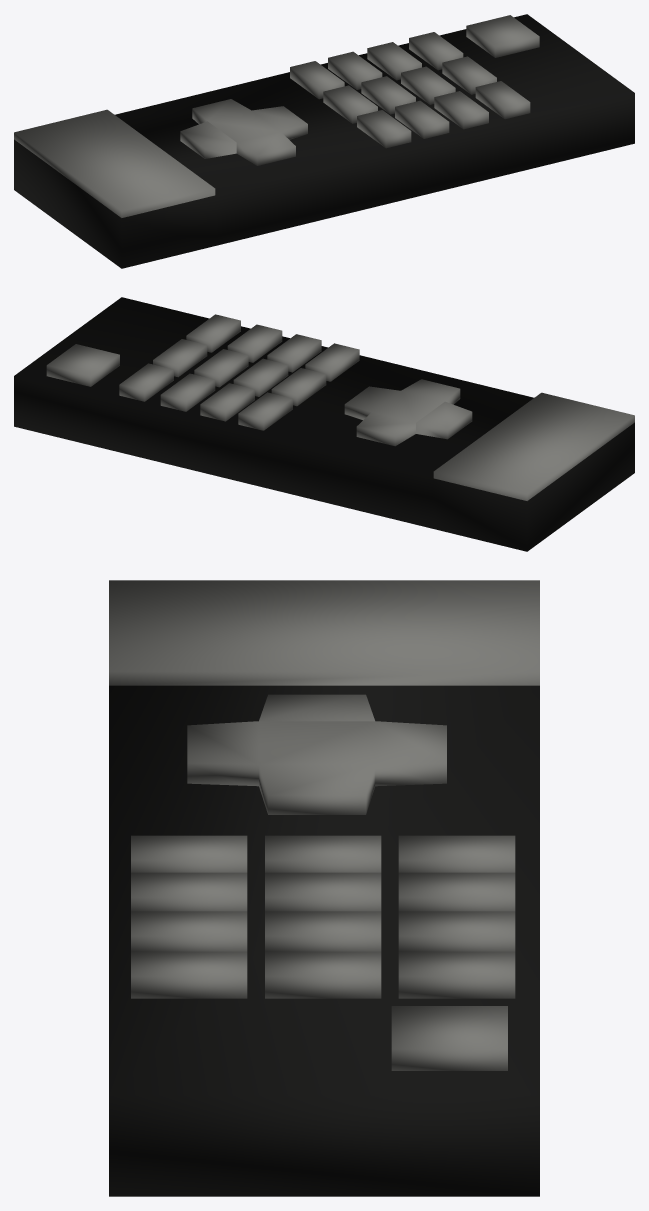
The model's file is RemoteController.fbx.
3 views of the same model, one above another, from view 1: azimuth 30°, elevation 25°; view 2: azimuth 150°, elevation 25°; view 3: azimuth 270°, elevation 25° (orthographic). The views are drawn at different scales.
Parts seen in each view (by area): view 1: Cube.8232; view 2: Cube.8232; view 3: Cube.8232.
Part boxes in pixels (bbox=[...]): Cube.8232: bbox=[14, 14, 634, 268]; Cube.8232: bbox=[14, 297, 634, 551]; Cube.8232: bbox=[109, 580, 539, 1196].
Size of the model in its own units: 52.62 by 6.04 by 19.14.
1 material, 1 textured.
